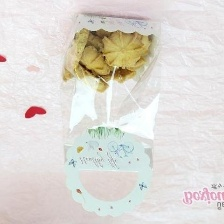snack: (51, 8, 169, 224)
